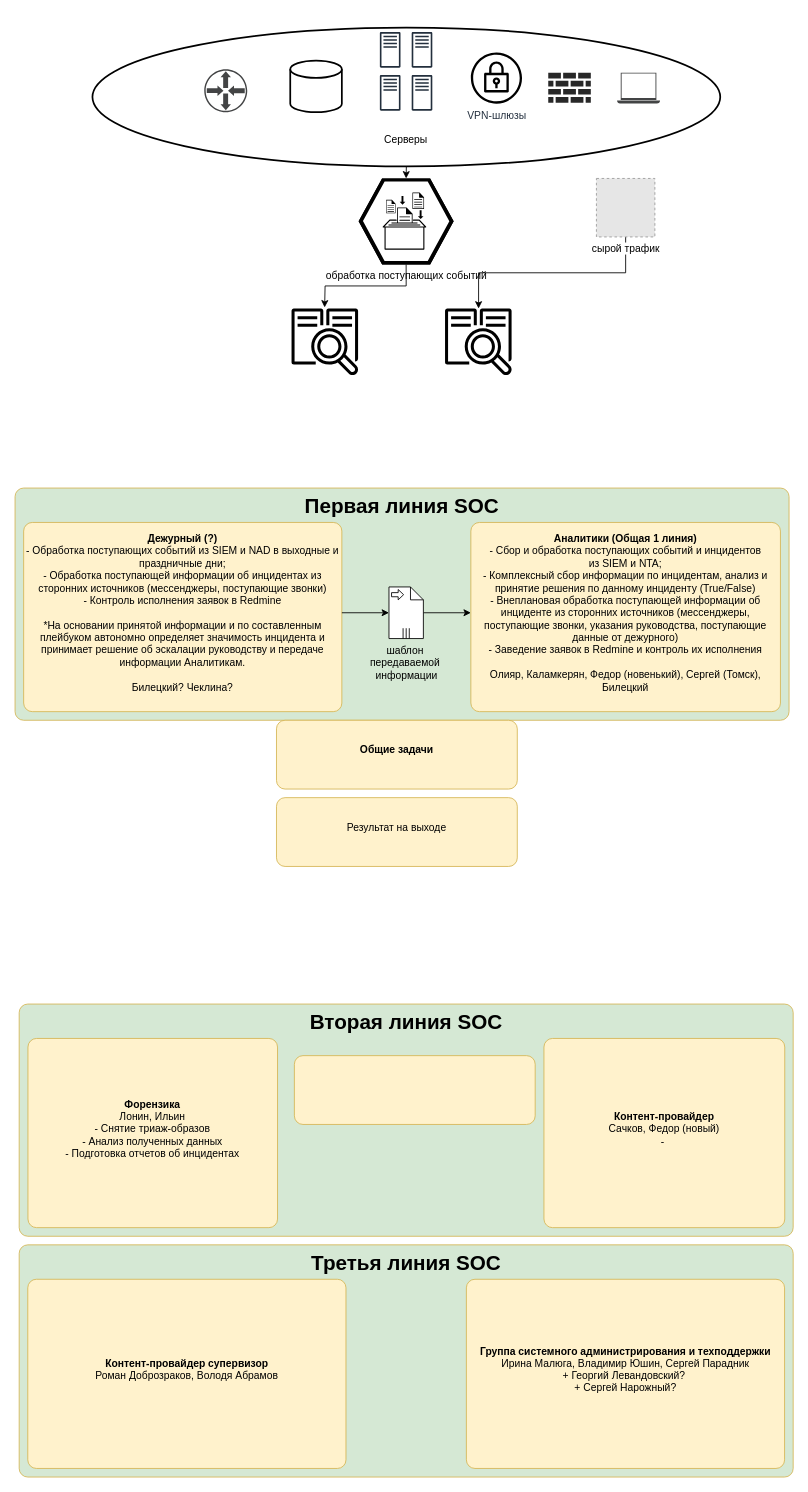
This 808x1492 diagram has some shape labels left out. Grey dashed boxes stand in for pictures. Here are the shapes that lost their labels. From the top down, the centre of each, then its label:
At (225,90): "Маршрутизаторы".
At (315,86): "Базы данных".
At (569,87): "МСЭ".
At (638,87): "пользовательские АРМ".
At (324,341): "SIEM (MP SIEM)".
At (478,341): "NTA (PT NAD)".
At (414,1085): "Общие задачи - информационная поддержка первой линии SOC в случае обращений".
